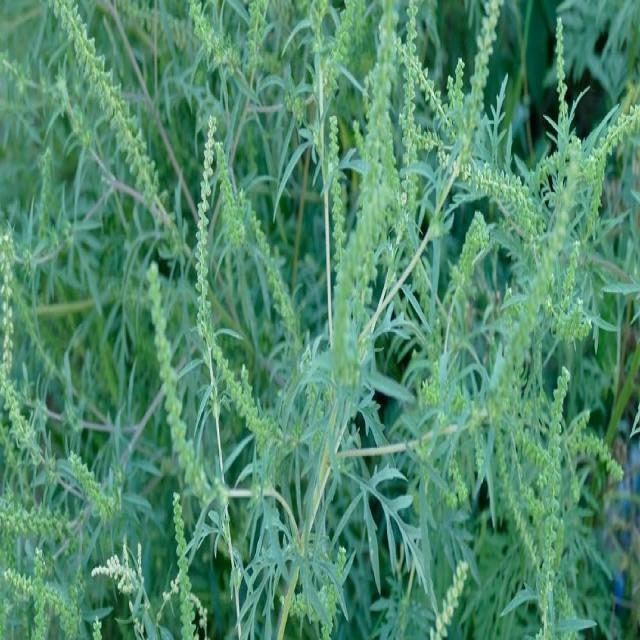ambrosia: (369, 6, 640, 313), (160, 103, 298, 471), (480, 302, 616, 640), (33, 0, 188, 255), (306, 117, 382, 349)
